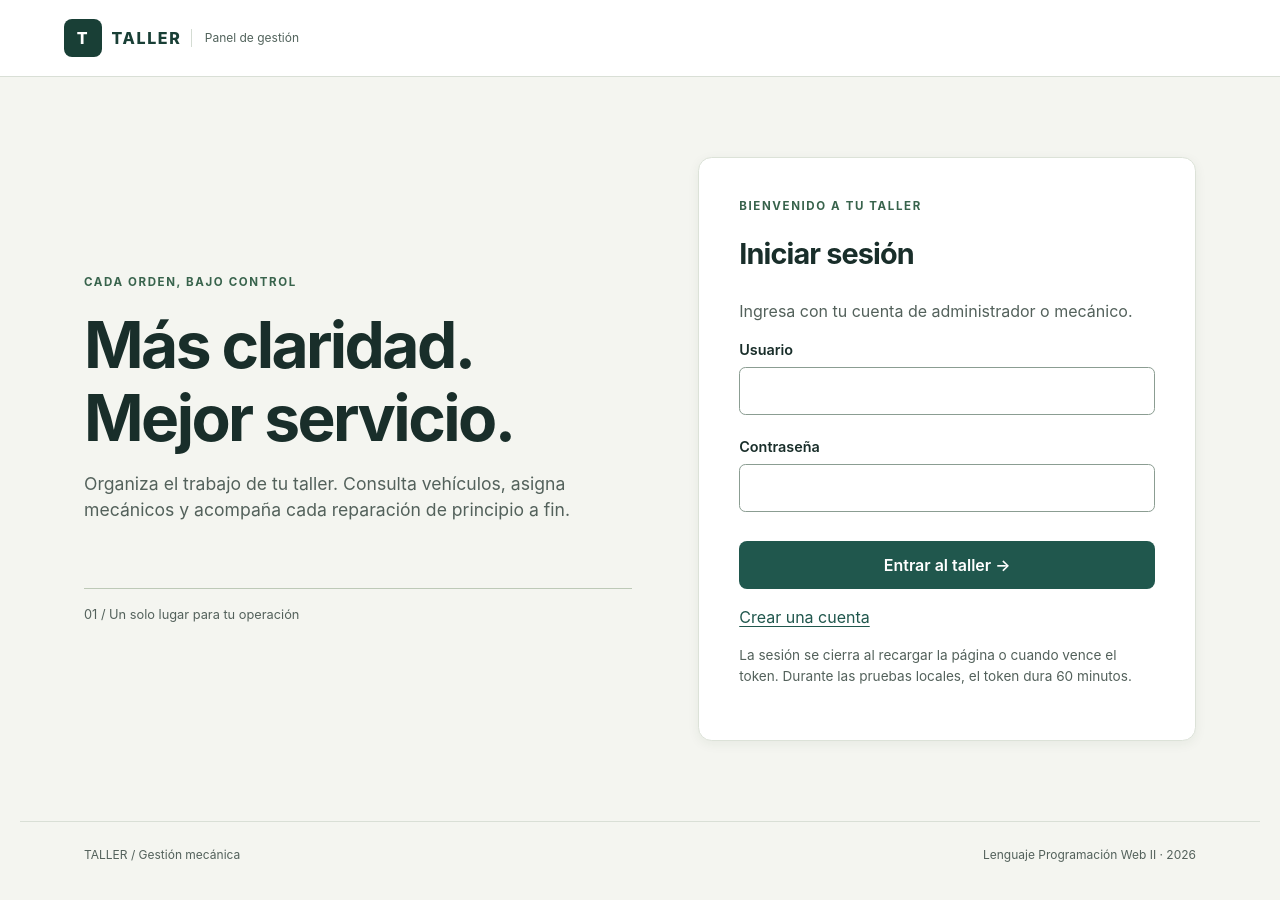
indica que se debe crear una marca antes de un modelo
In the field labelled "Usuario": (947, 391) [739,367,1155,415], type "ana"
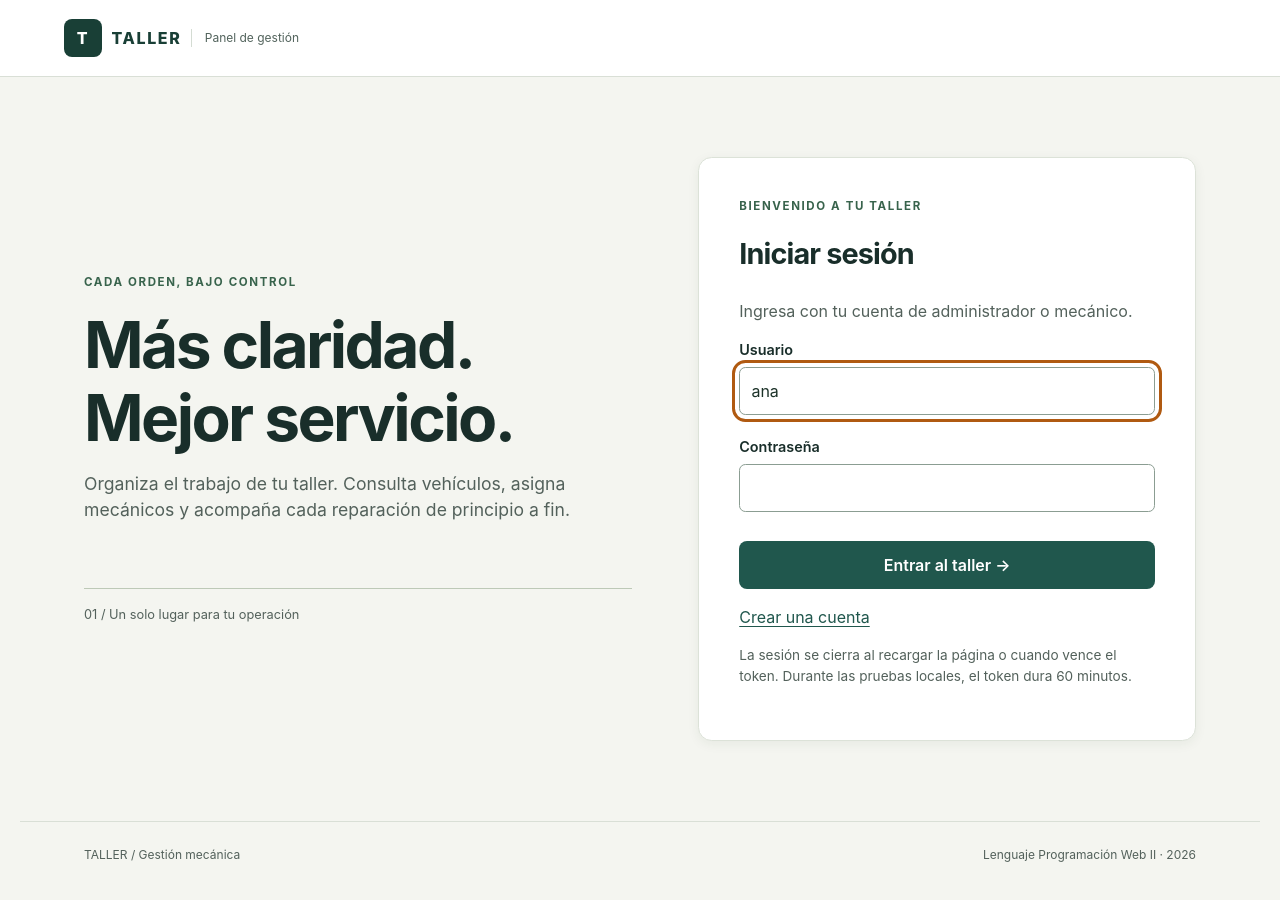
In the password field labelled "Contraseña": (947, 488) [739,464,1155,512], type "secreto"
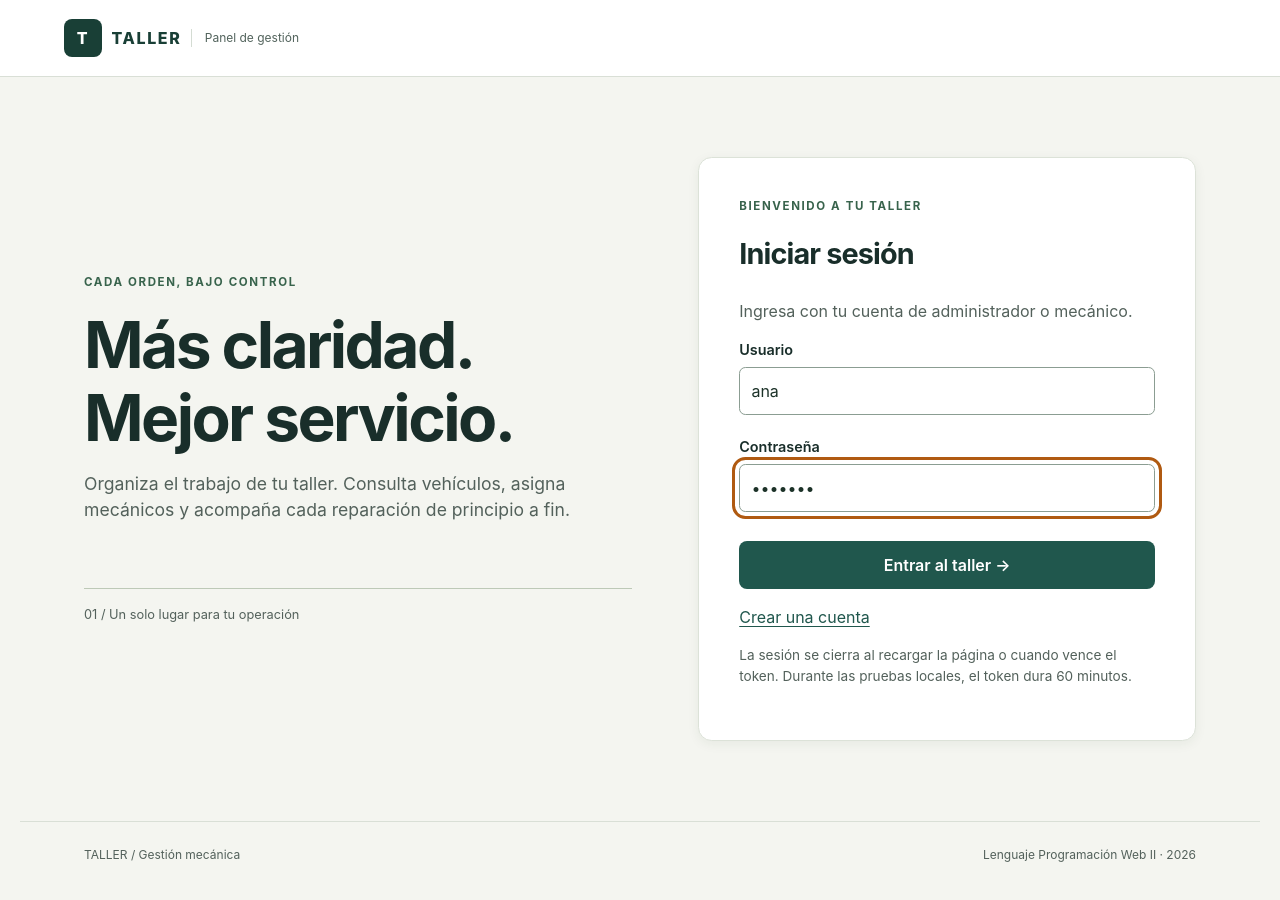
Click the button "Entrar al taller →": (947, 565) [739,541,1155,590]
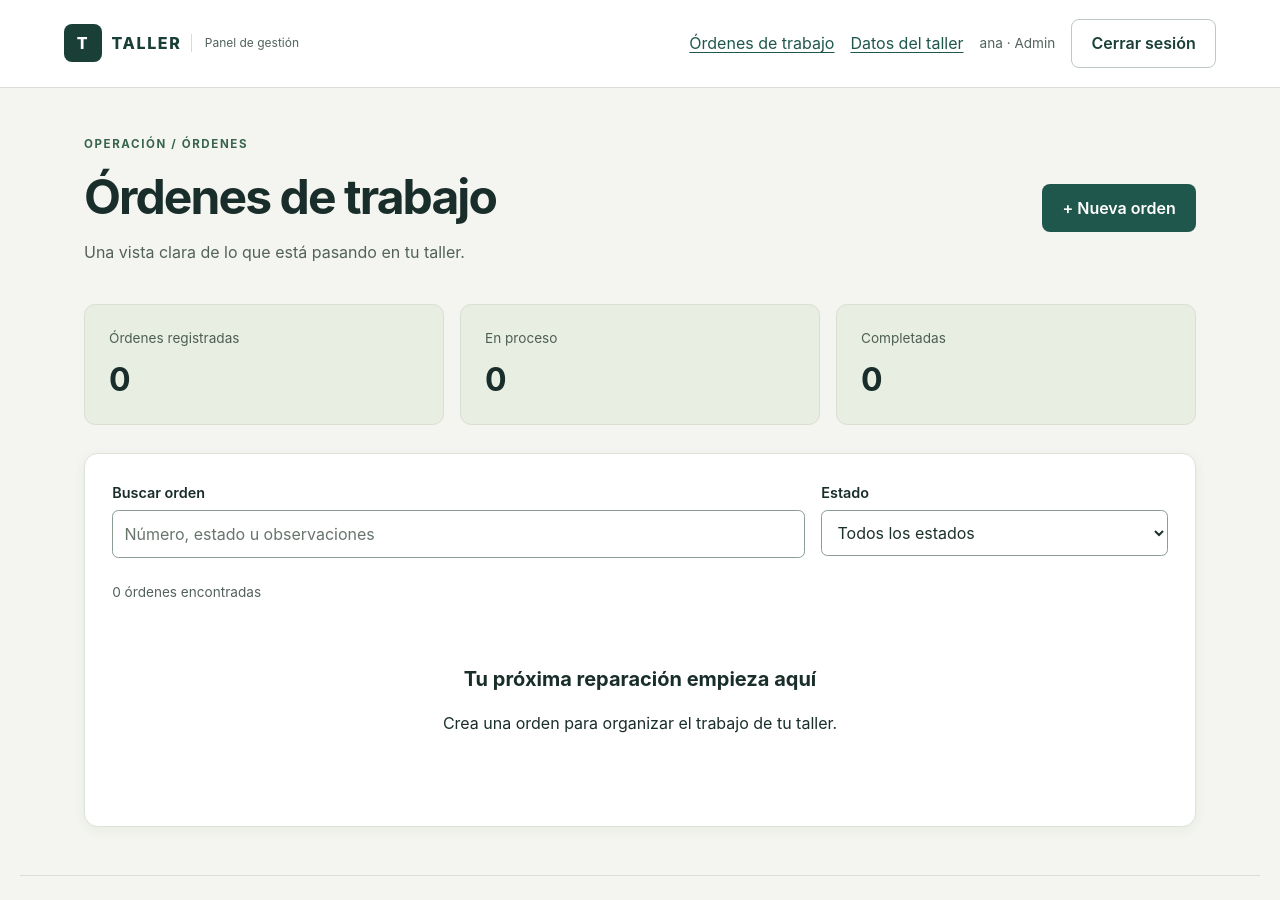
Click the link "Datos del taller": (907, 43) [850,33,964,53]
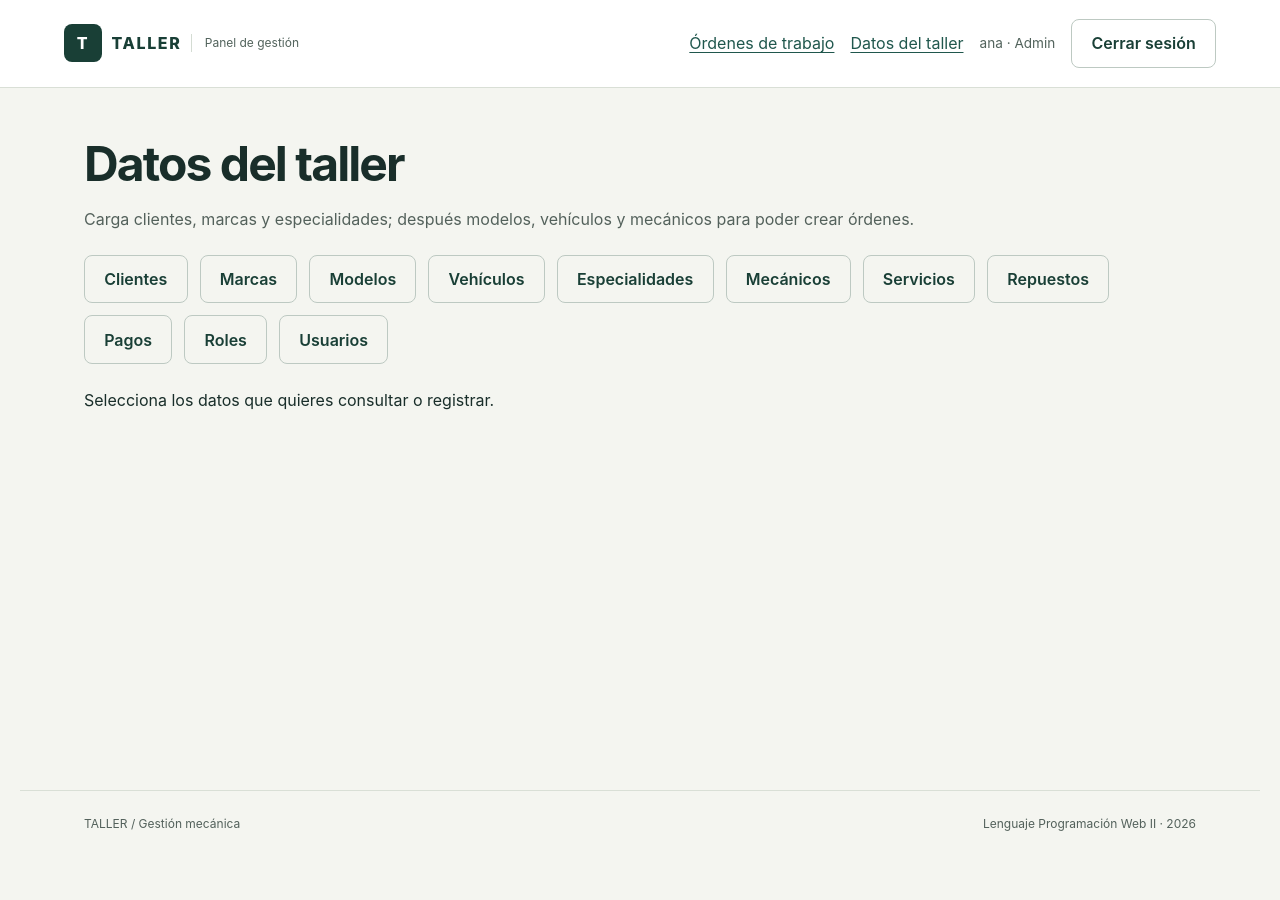
Click the link "Modelos": (363, 279) [309,255,416,303]
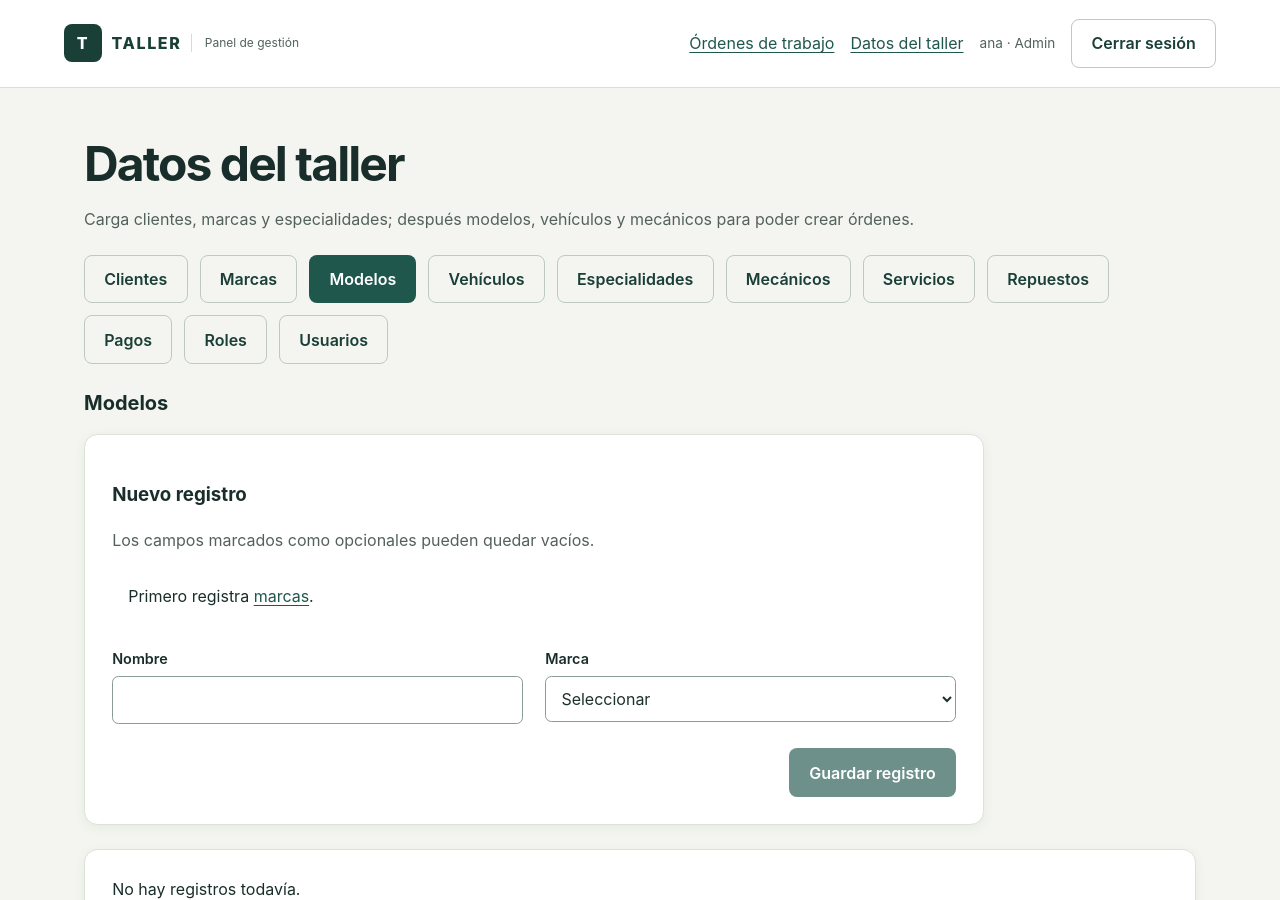
Expected: the text "Primero registra marcas ." is shown, [128,586,314,606]
Expected: the button "Guardar registro" is disabled, [789,748,956,797]
